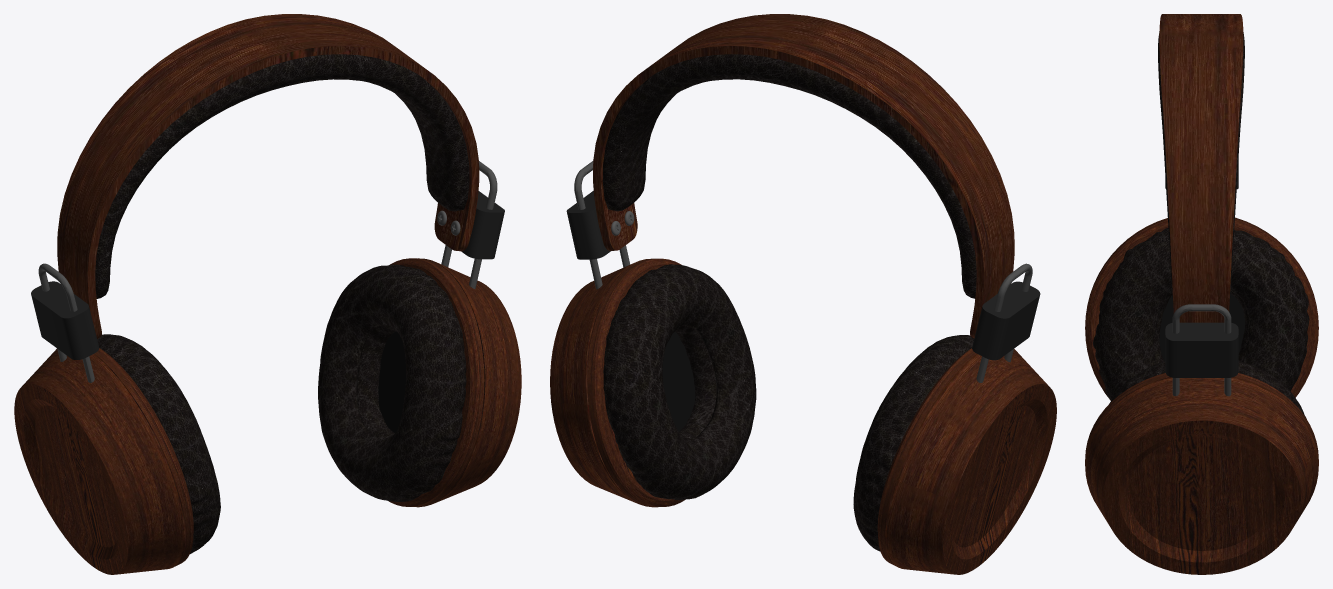
File: headphones.glb
The picture shows the model from 3 angles, left to right: view 1: azimuth 30°, elevation 25°; view 2: azimuth 150°, elevation 25°; view 3: azimuth 270°, elevation 25°; orthographic projection. The views are drawn at different scales.
Parts seen in each view (by area): view 1: Speaker-Cover_2, Speaker-Foam_3, Head-Support_8, Foam_7, Speaker-Support_5, Speaker-Net_4, BezierCurve.006_1; view 2: Speaker-Cover_2, Speaker-Foam_3, Head-Support_8, Foam_7, Speaker-Support_5, Speaker-Net_4, BezierCurve.006_1; view 3: Speaker-Cover_2, Head-Support_8, Speaker-Foam_3, Speaker-Support_5, Foam_7, BezierCurve.006_1, Speaker-Net_4.
Boxes of the visible parts, x1,y1,x2,y2 form: Speaker-Cover_2: (14,258,521,574); Speaker-Foam_3: (97,264,466,553); Head-Support_8: (57,14,479,338); Foam_7: (95,54,469,298); Speaker-Support_5: (31,191,504,359); Speaker-Net_4: (378,331,405,432); BezierCurve.006_1: (38,161,497,382); Speaker-Cover_2: (550,258,1056,574); Speaker-Foam_3: (603,264,973,551); Head-Support_8: (593,14,1014,338); Foam_7: (602,54,976,298); Speaker-Support_5: (566,191,1040,360); Speaker-Net_4: (662,332,695,431); BezierCurve.006_1: (574,161,1032,382); Speaker-Cover_2: (1085,217,1318,574); Head-Support_8: (1159,14,1243,322); Speaker-Foam_3: (1093,228,1309,418); Speaker-Support_5: (1165,159,1238,377); Foam_7: (1158,31,1244,302); BezierCurve.006_1: (1172,304,1231,396); Speaker-Net_4: (1159,294,1245,361).
Size of the model in its own units: 2.88 by 3.07 by 1.4.
6 materials, 2 textured.
